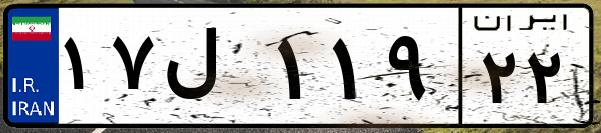1: (270, 28, 330, 110), (330, 28, 385, 110), (57, 26, 110, 100)
2: (475, 38, 525, 113), (525, 38, 570, 115)
7: (110, 28, 158, 98)
9: (385, 28, 445, 110)
ل: (158, 20, 270, 120)
